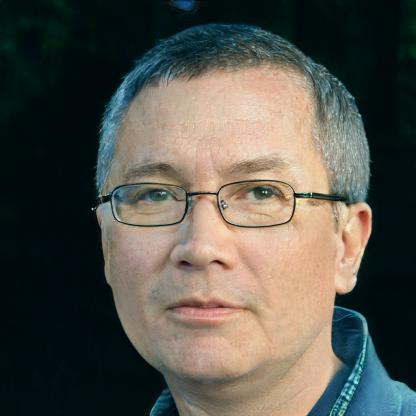glasses: (103, 176, 324, 232)
